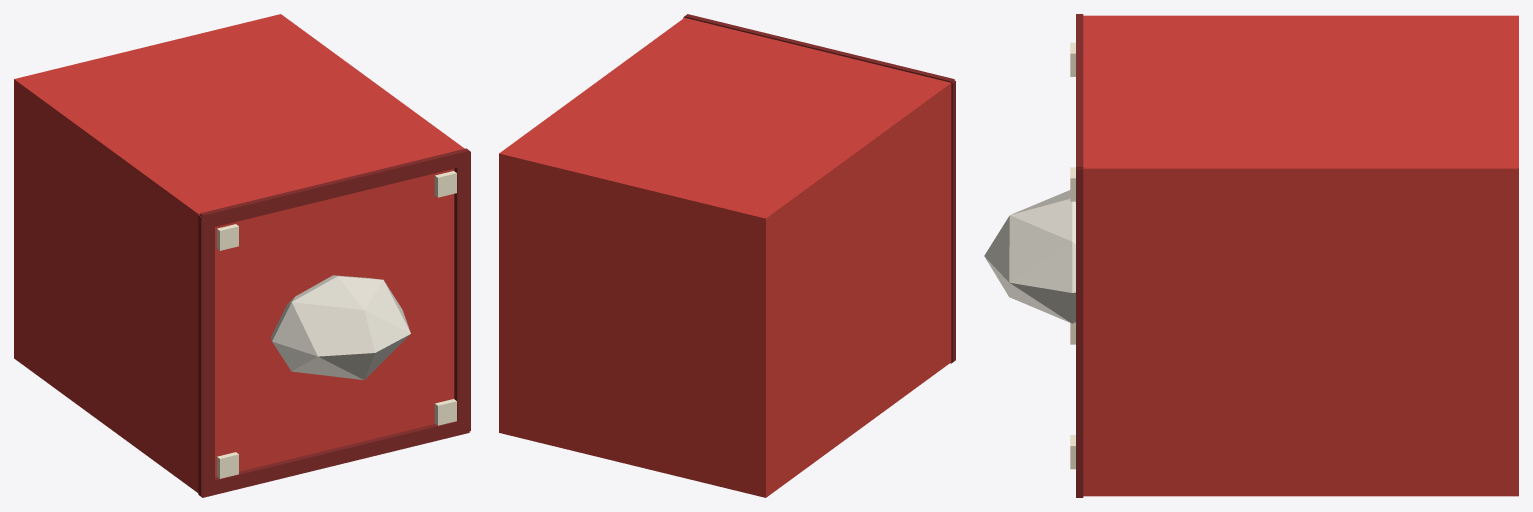
File: block-life.glb
3 renders of one model, left to right at view 1: azimuth 30°, elevation 25°; view 2: azimuth 150°, elevation 25°; view 3: azimuth 270°, elevation 25°, orthographic. The views are drawn at different scales.
Visible parts, largest first — view 1: Model; view 2: Model; view 3: Model.
Part boxes in pixels (left/top/right/bottom): Model: left=14, top=14, right=470, bottom=497; Model: left=499, top=14, right=955, bottom=497; Model: left=984, top=14, right=1518, bottom=497.
Size of the model in its own units: 0.99 by 0.99 by 1.45.
1 material, 1 textured.
